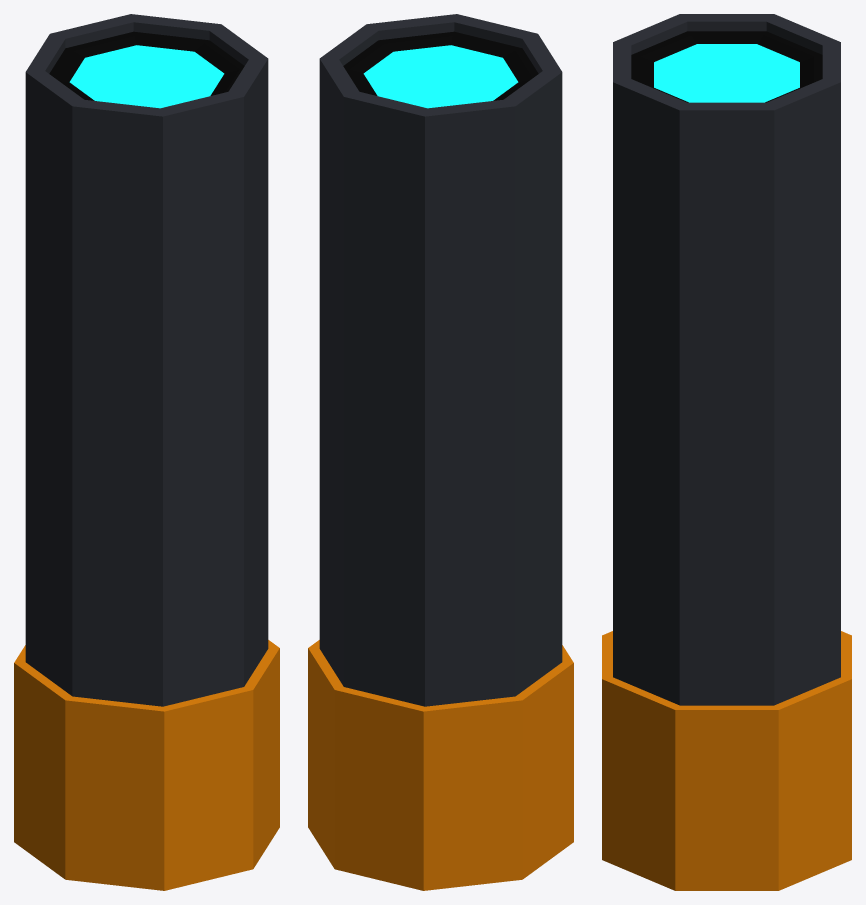
File: SM_Shotgun_Shell.fbx
3 renders of one model, left to right at view 1: azimuth 30°, elevation 25°; view 2: azimuth 150°, elevation 25°; view 3: azimuth 270°, elevation 25°, orthographic.
Visible parts, largest first — view 1: SM_Shotgun_Shell; view 2: SM_Shotgun_Shell; view 3: SM_Shotgun_Shell.
Boxes of the visible parts, bbox=[...] form: SM_Shotgun_Shell: bbox=[14, 14, 279, 890]; SM_Shotgun_Shell: bbox=[308, 14, 573, 890]; SM_Shotgun_Shell: bbox=[602, 14, 851, 890].
Bounding box in the file's own units: 2.72 × 9.31 × 2.72.
